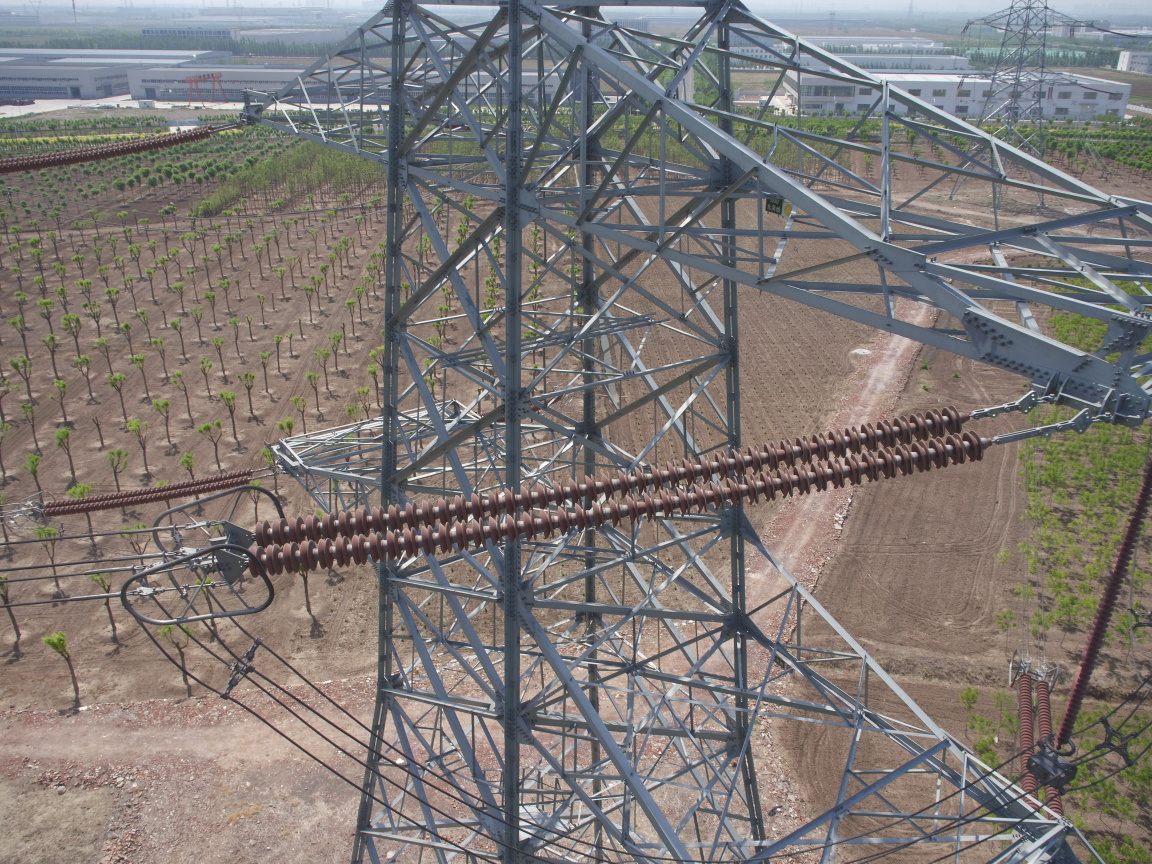insulator: (240, 399, 1009, 580), (37, 467, 262, 517)
